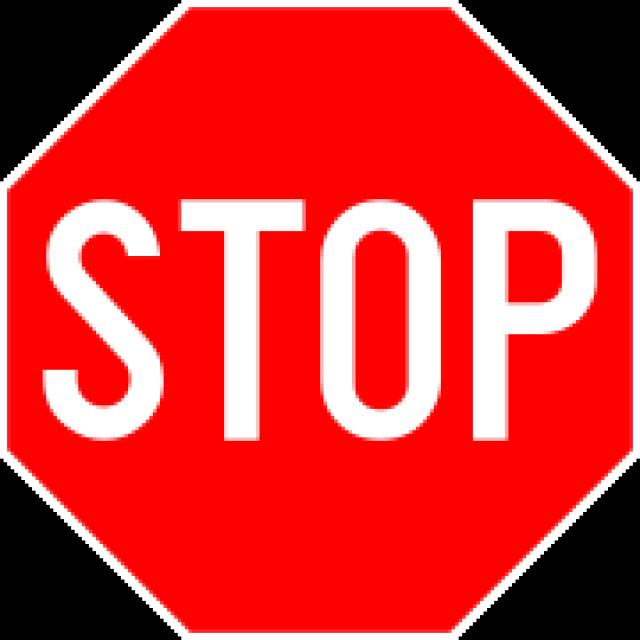Traffic sign: (28, 51, 610, 587)
